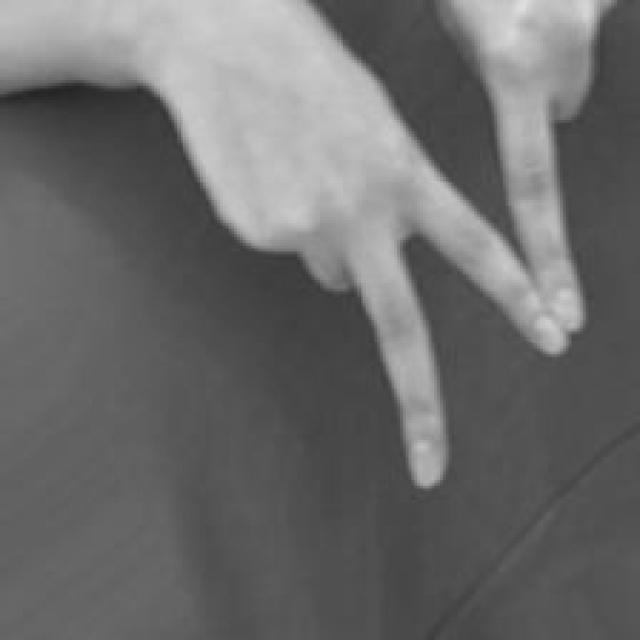N: (155, 0, 636, 489)
